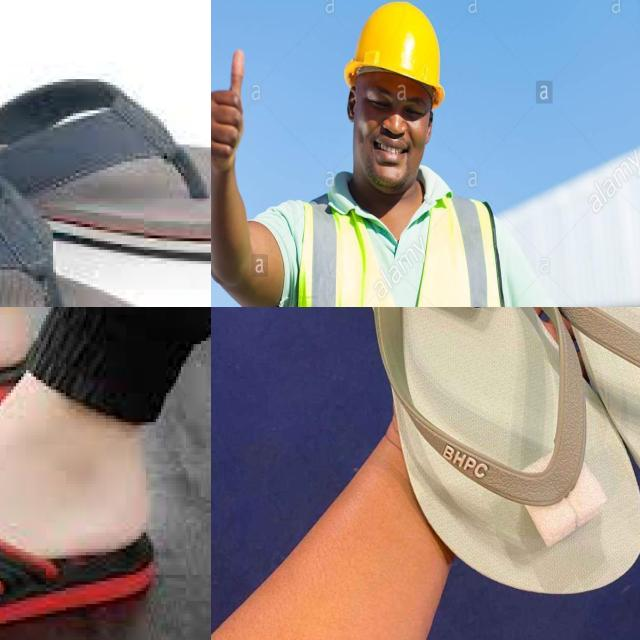No_Ear-Protection: (343, 82, 362, 126)
No_Glasses: (364, 84, 432, 125)
Sandals: (316, 307, 640, 625), (0, 15, 211, 307), (0, 307, 179, 640)
face_nomask: (348, 82, 433, 193)
hand_noglove: (211, 51, 261, 171)
head_helmet: (340, 0, 445, 106)
person: (211, 0, 587, 307)
vest: (268, 172, 508, 307)
